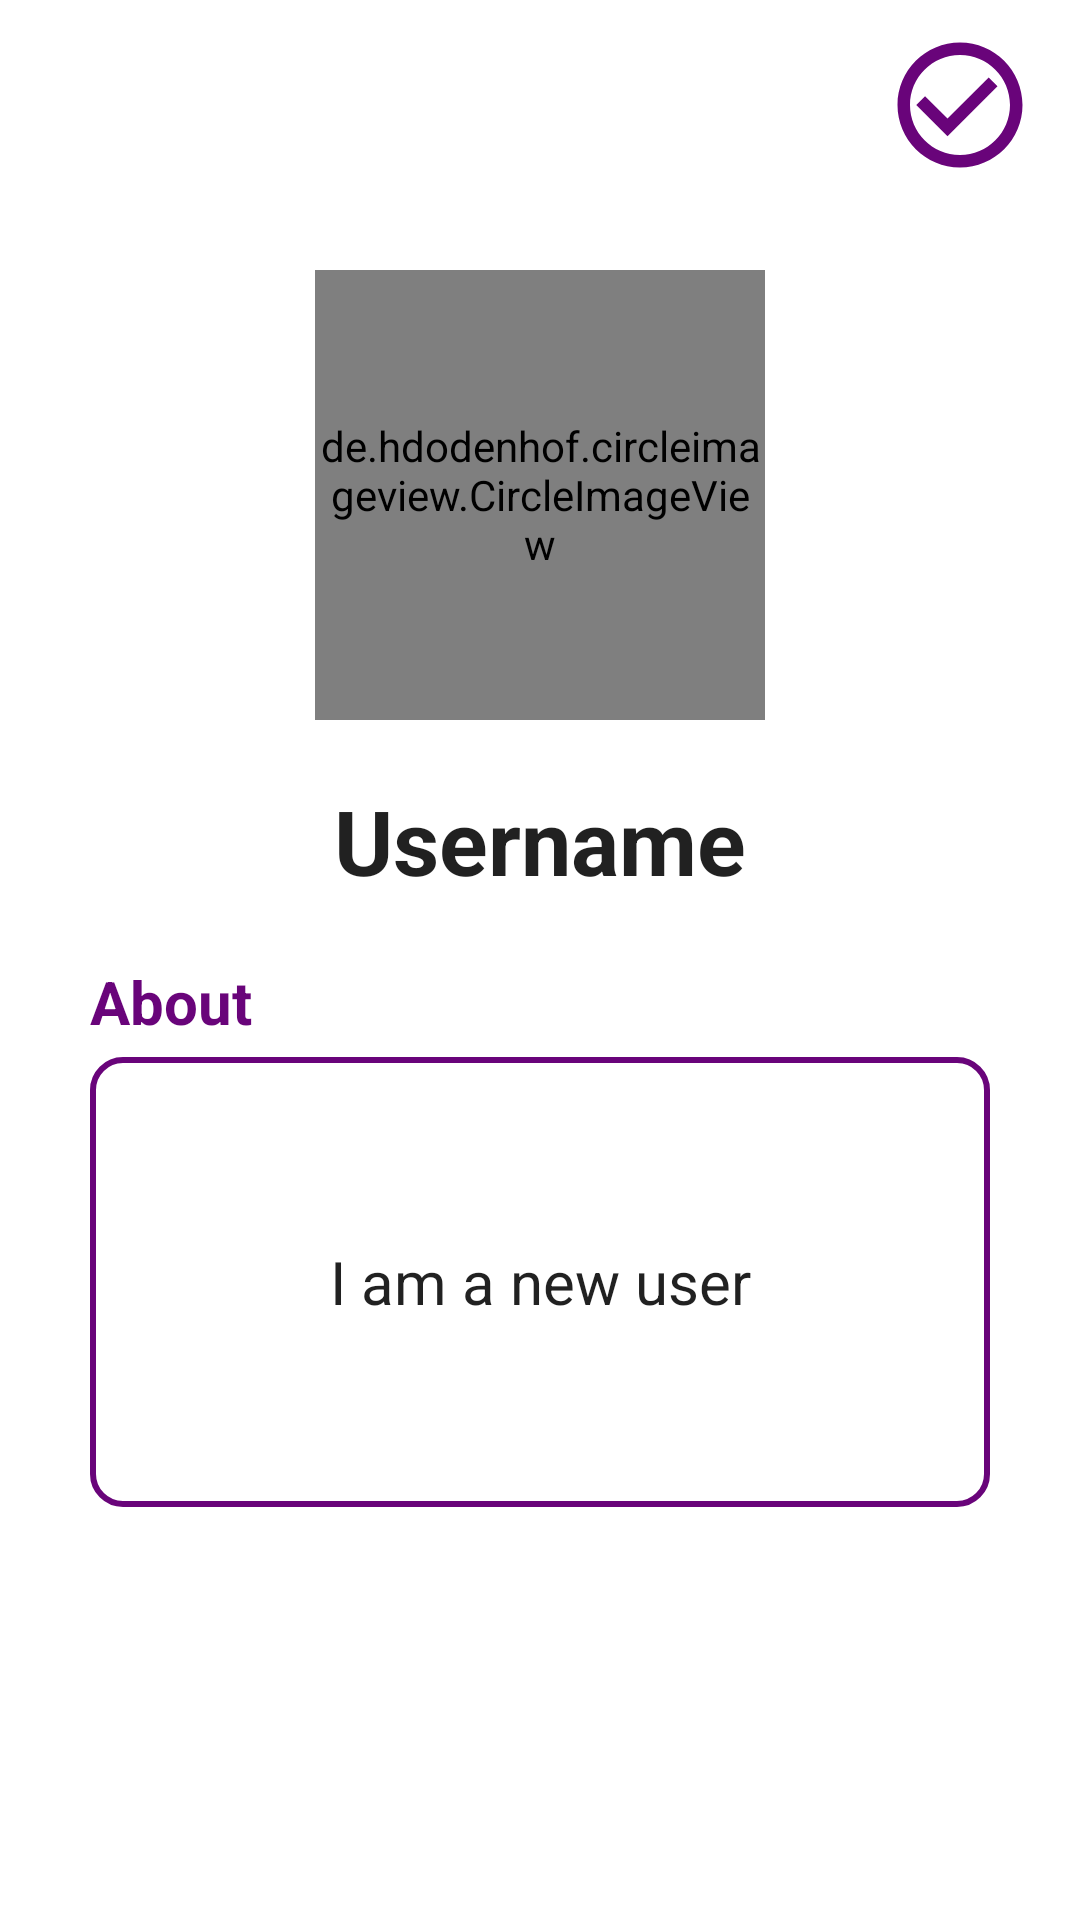

Screen size 1080*1920. Icon name, then its box in pixels as (x1, y1, x2, y2):
check circle: (897, 42, 1023, 168)
